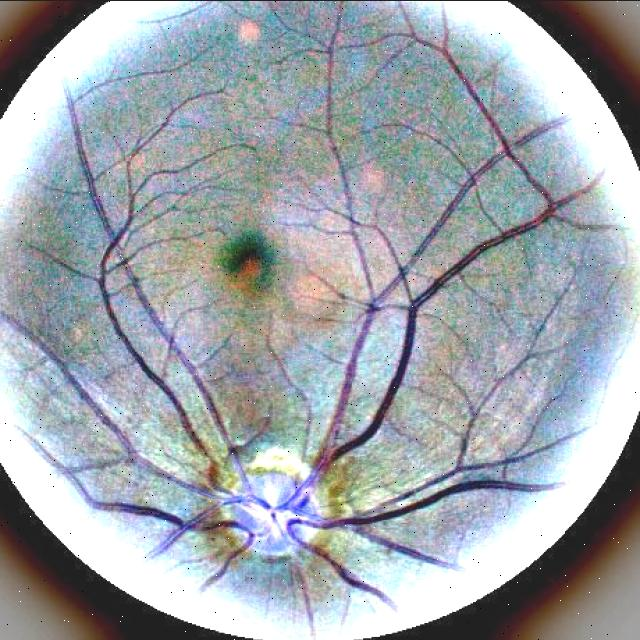Macula: (221, 231, 275, 291)
Nerves: (90, 31, 599, 610)
Optic Disk: (225, 444, 320, 554)
